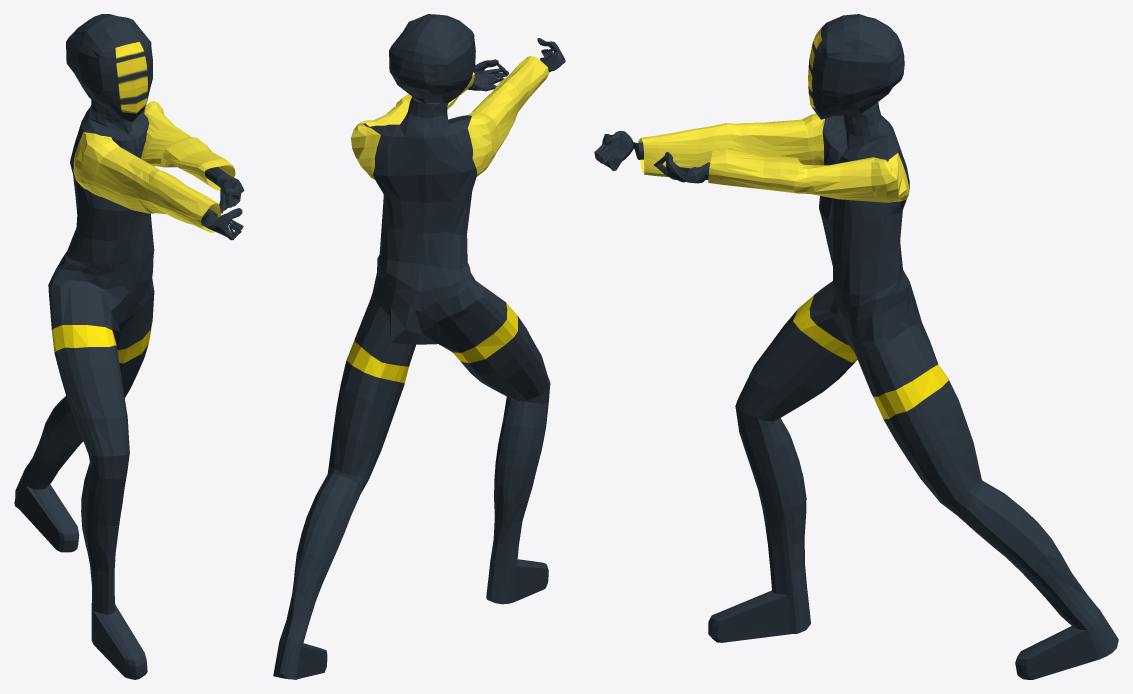
File: Sentry_Attack_000024.obj
The picture shows the model from 3 angles, left to right: view 1: azimuth 30°, elevation 25°; view 2: azimuth 150°, elevation 25°; view 3: azimuth 270°, elevation 25°; orthographic projection. The views are drawn at different scales.
Parts seen in each view (by area): view 1: Cube; view 2: Cube; view 3: Cube.
Part boxes in pixels (<box>): Cube: <box>14,14,244,679</box>; Cube: <box>273,14,565,679</box>; Cube: <box>594,14,1118,679</box>.
Size of the model in its own units: 0.8931 by 3.75 by 2.78.
